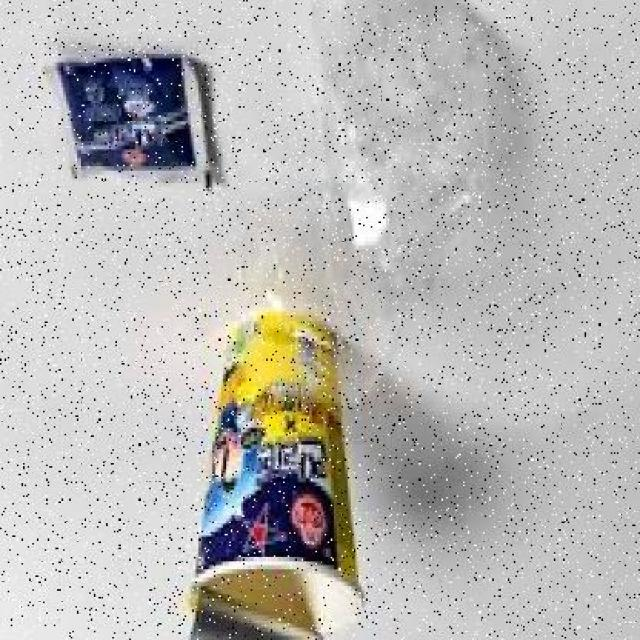Miscellaneous: (182, 315, 370, 640)
